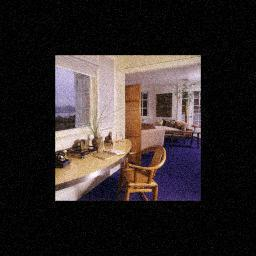Puerta: (125, 83, 143, 163)
